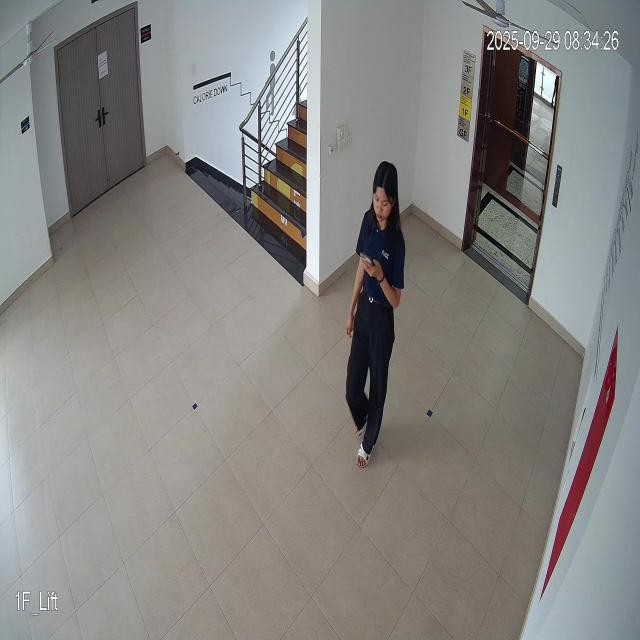face: (370, 164, 403, 226)
